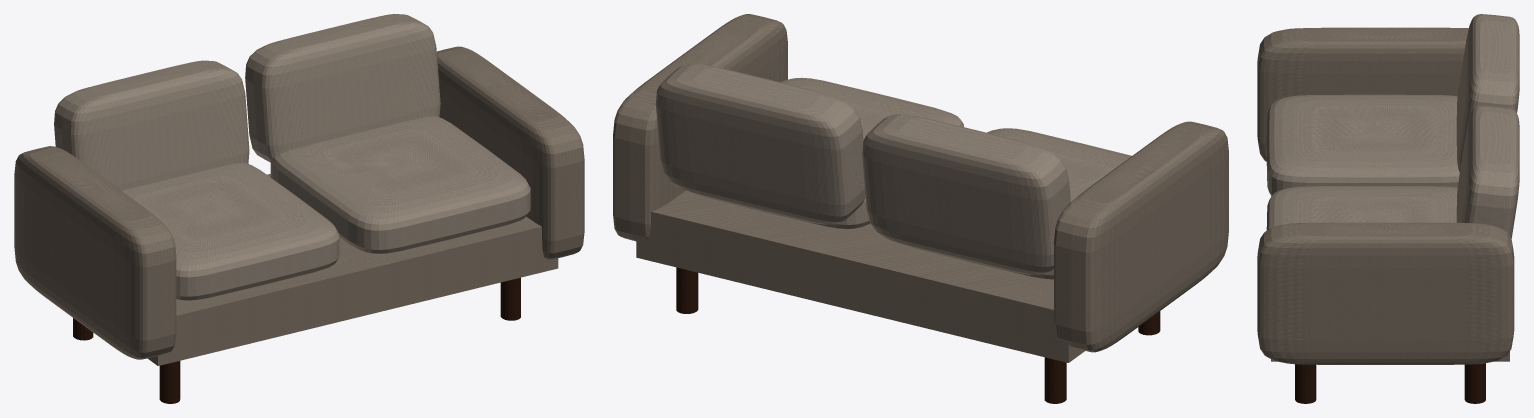
File: sofa-2_lod1.glb
3 renders of one model, left to right at view 1: azimuth 30°, elevation 25°; view 2: azimuth 150°, elevation 25°; view 3: azimuth 270°, elevation 25°, orthographic. The views are drawn at different scales.
Parts seen in each view (by area): view 1: arm_left, seat_2, base, back_2, back_1, seat_1, arm_right, leg_3, leg_4; view 2: base, arm_left, back_2, back_1, arm_right, seat_2, seat_1, leg_1, leg_2; view 3: arm_right, seat_1, arm_left, seat_2, back_2, back_1, leg_2, leg_4.
Part boxes in pixels (bbox=[...]): arm_left: bbox=[14, 146, 176, 359]; seat_2: bbox=[270, 116, 530, 253]; base: bbox=[147, 174, 558, 365]; back_2: bbox=[245, 14, 440, 162]; back_1: bbox=[54, 60, 249, 190]; seat_1: bbox=[122, 162, 339, 300]; arm_right: bbox=[437, 46, 584, 259]; leg_3: bbox=[159, 361, 180, 403]; leg_4: bbox=[500, 277, 520, 320]; base: bbox=[636, 190, 1084, 362]; arm_left: bbox=[1054, 121, 1228, 352]; back_2: bbox=[655, 64, 865, 224]; back_1: bbox=[862, 114, 1070, 274]; arm_right: bbox=[613, 14, 787, 241]; seat_2: bbox=[708, 77, 963, 229]; seat_1: bbox=[915, 128, 1131, 279]; leg_1: bbox=[1044, 357, 1066, 403]; leg_2: bbox=[676, 267, 698, 313]; arm_right: bbox=[1257, 222, 1514, 364]; seat_1: bbox=[1266, 94, 1459, 195]; arm_left: bbox=[1257, 27, 1468, 161]; seat_2: bbox=[1266, 186, 1457, 230]; back_2: bbox=[1456, 105, 1519, 238]; back_1: bbox=[1456, 14, 1519, 172]; leg_2: bbox=[1464, 363, 1485, 403]; leg_4: bbox=[1295, 364, 1316, 403].
Bounding box in the file's own units: 1.75 × 0.86 × 0.9.
3 materials, 3 textured.
